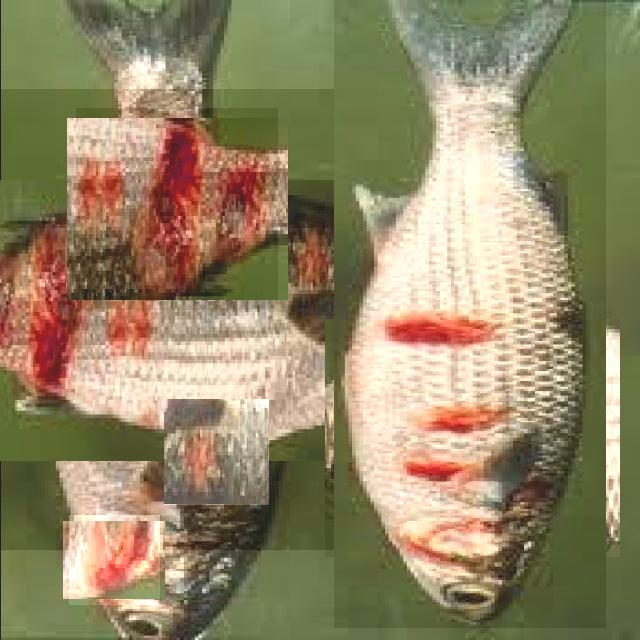EUS Disease: (0, 89, 394, 550), (334, 0, 606, 628), (339, 304, 605, 572), (76, 108, 278, 310), (164, 399, 269, 505), (69, 515, 160, 605)
